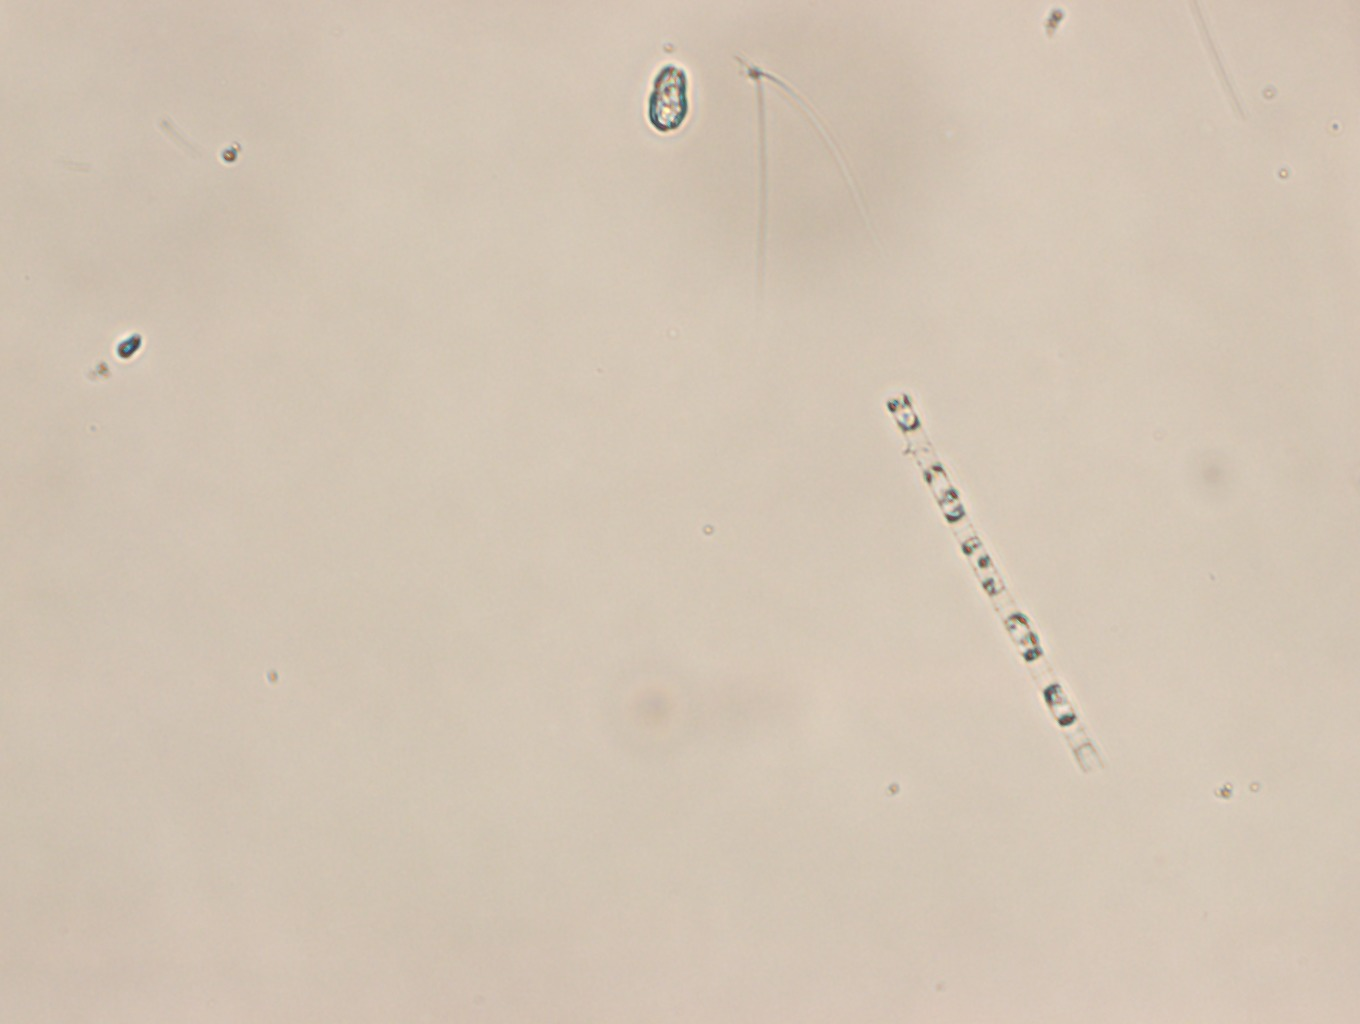skeletonema: (883, 390, 1108, 783)
